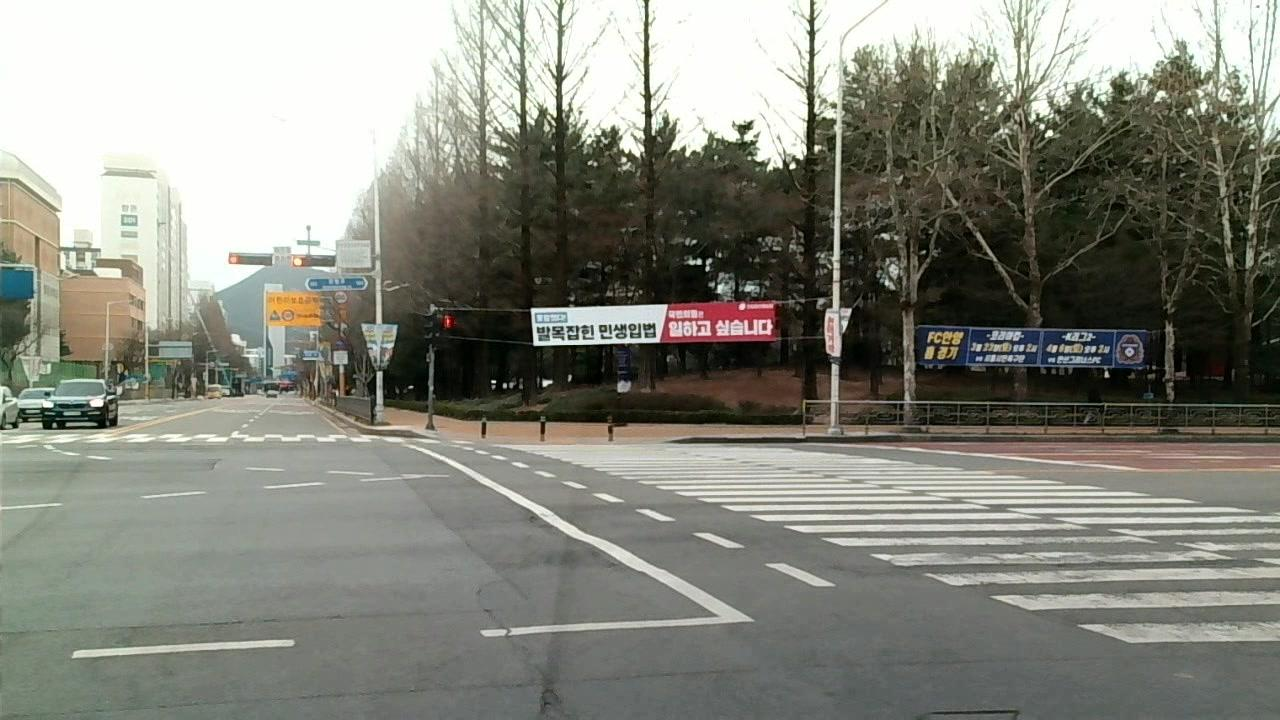banner: (6, 683, 447, 720), (471, 583, 570, 720), (529, 299, 776, 350), (913, 323, 1153, 373), (1, 608, 456, 634)
